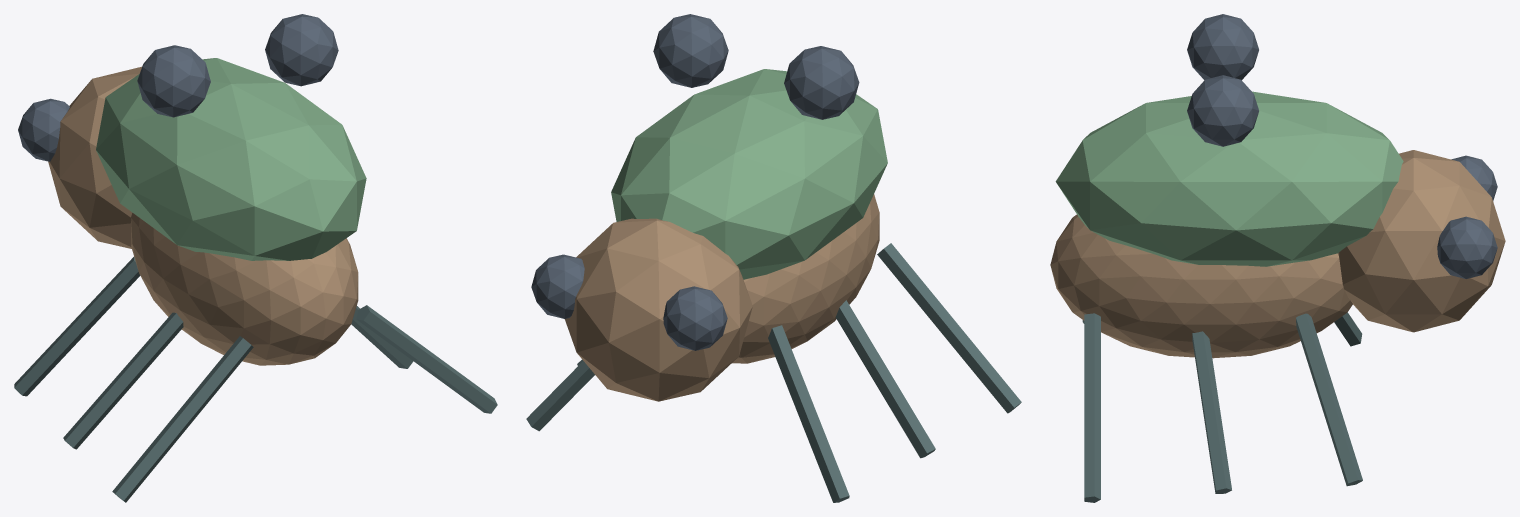
The model's file is beetle.glb.
The picture shows the model from 3 angles, left to right: view 1: azimuth 30°, elevation 25°; view 2: azimuth 150°, elevation 25°; view 3: azimuth 270°, elevation 25°; orthographic projection. The views are drawn at different scales.
Parts seen in each view (by area): view 1: WingCase, Body, Head, Spot_-1, Spot_1, Leg_-1_2, Leg_-1_0, Leg_-1_1, Leg_1_2, Eye_-1, Leg_1_1; view 2: WingCase, Head, Body, Spot_-1, Spot_1, Leg_-1_2, Leg_-1_0, Eye_-1, Leg_-1_1, Eye_1, Leg_1_0; view 3: WingCase, Body, Head, Spot_1, Spot_-1, Leg_1_2, Leg_1_0, Eye_1, Leg_1_1, Eye_-1, Leg_-1_0.
Boxes of the visible parts, x1,y1,x2,y2 form: WingCase: (96,58,366,260); Body: (131,213,358,365); Head: (48,66,141,248); Spot_-1: (137,45,210,117); Spot_1: (265,14,338,86); Leg_-1_2: (112,336,253,502); Leg_-1_0: (14,257,140,396); Leg_-1_1: (63,312,183,449); Leg_1_2: (356,305,497,413); Eye_-1: (18,98,69,161); Leg_1_1: (351,306,413,368); WingCase: (611,69,887,279); Head: (564,218,752,401); Body: (732,194,879,363); Spot_-1: (784,46,859,119); Spot_1: (653,14,728,87); Leg_-1_2: (877,243,1021,413); Leg_-1_0: (768,325,849,502); Eye_-1: (663,286,727,350); Leg_-1_1: (835,300,935,458); Eye_1: (531,254,584,318); Leg_1_0: (526,361,594,431); WingCase: (1055,91,1403,266); Body: (1050,214,1352,358); Head: (1338,150,1505,332); Spot_1: (1187,75,1258,146); Spot_-1: (1187,14,1258,79); Leg_1_2: (1084,313,1100,502); Leg_1_0: (1296,313,1362,486); Eye_1: (1437,216,1497,278); Leg_1_1: (1192,331,1231,493); Eye_-1: (1451,155,1497,200); Leg_-1_0: (1334,312,1362,346).
Bounding box in the file's own units: 0.6582 × 0.6197 × 0.693.
